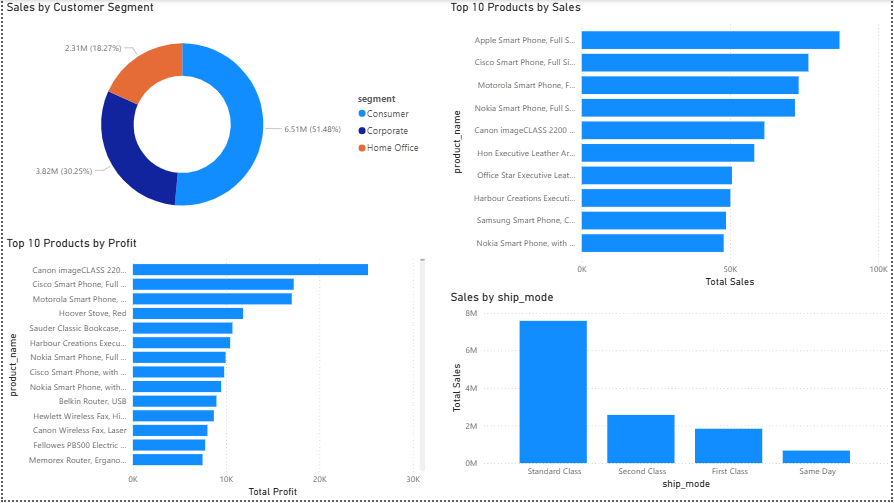

The page's visual inventory and layout, read from the dashboard file:
{"tool":"powerbi","page":{"name":"Product & Customer Analysis","canvas":[1280,720],"ordinal":1},"visuals":[{"type":"clusteredBarChart","title":"Top 10 Products by Sales","fields":{"Category":["sales_cleaned_final.product_name"],"Y":["sales_cleaned_final.Total Sales"]},"box":[640,0,640,418.3],"z":0},{"type":"barChart","title":"Top 10 Products by Profit","fields":{"Category":["sales_cleaned_final.product_name"],"Y":["sales_cleaned_final.Total Profit"]},"box":[0,339.3,613.1,381.3],"z":1000},{"type":"donutChart","title":"Sales by Customer Segment","fields":{"Category":["sales_cleaned_final.segment"],"Y":["sales_cleaned_final.Total Sales"]},"box":[0,0,613.1,339.3],"z":2000},{"type":"columnChart","title":"Sales by ship_mode","fields":{"Category":["sales_cleaned_final.ship_mode"],"Y":["sales_cleaned_final.Total Sales"]},"box":[640,418.3,640,292.3],"z":3000}]}

Visuals, with their boxes in screenshot pixels (x1, y1, x2, y2), scaled from the page's 1280x720 canvas onto the 894x503 screenshot:
"Top 10 Products by Sales" clusteredBarChart: 447:0:893:292
"Top 10 Products by Profit" barChart: 0:237:428:502
"Sales by Customer Segment" donutChart: 0:0:428:237
"Sales by ship_mode" columnChart: 447:292:893:496
